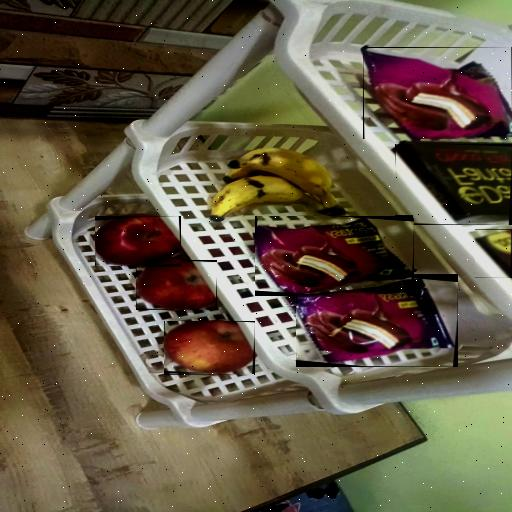Apple: (164, 322, 255, 376), (95, 216, 181, 266), (136, 260, 217, 310)
Choco Fills: (395, 144, 512, 225), (475, 229, 512, 278)
Choco Pie: (296, 274, 458, 367), (363, 47, 512, 139), (256, 219, 413, 294)
